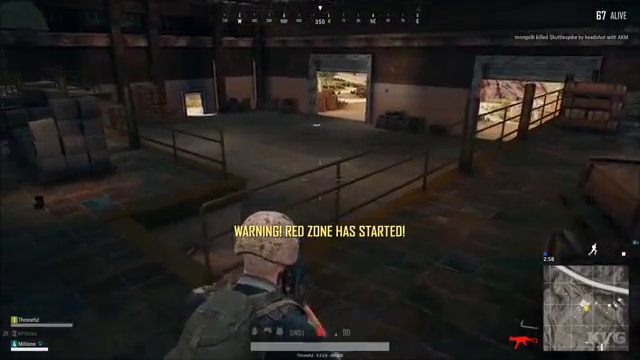Player: (163, 202, 353, 321)
